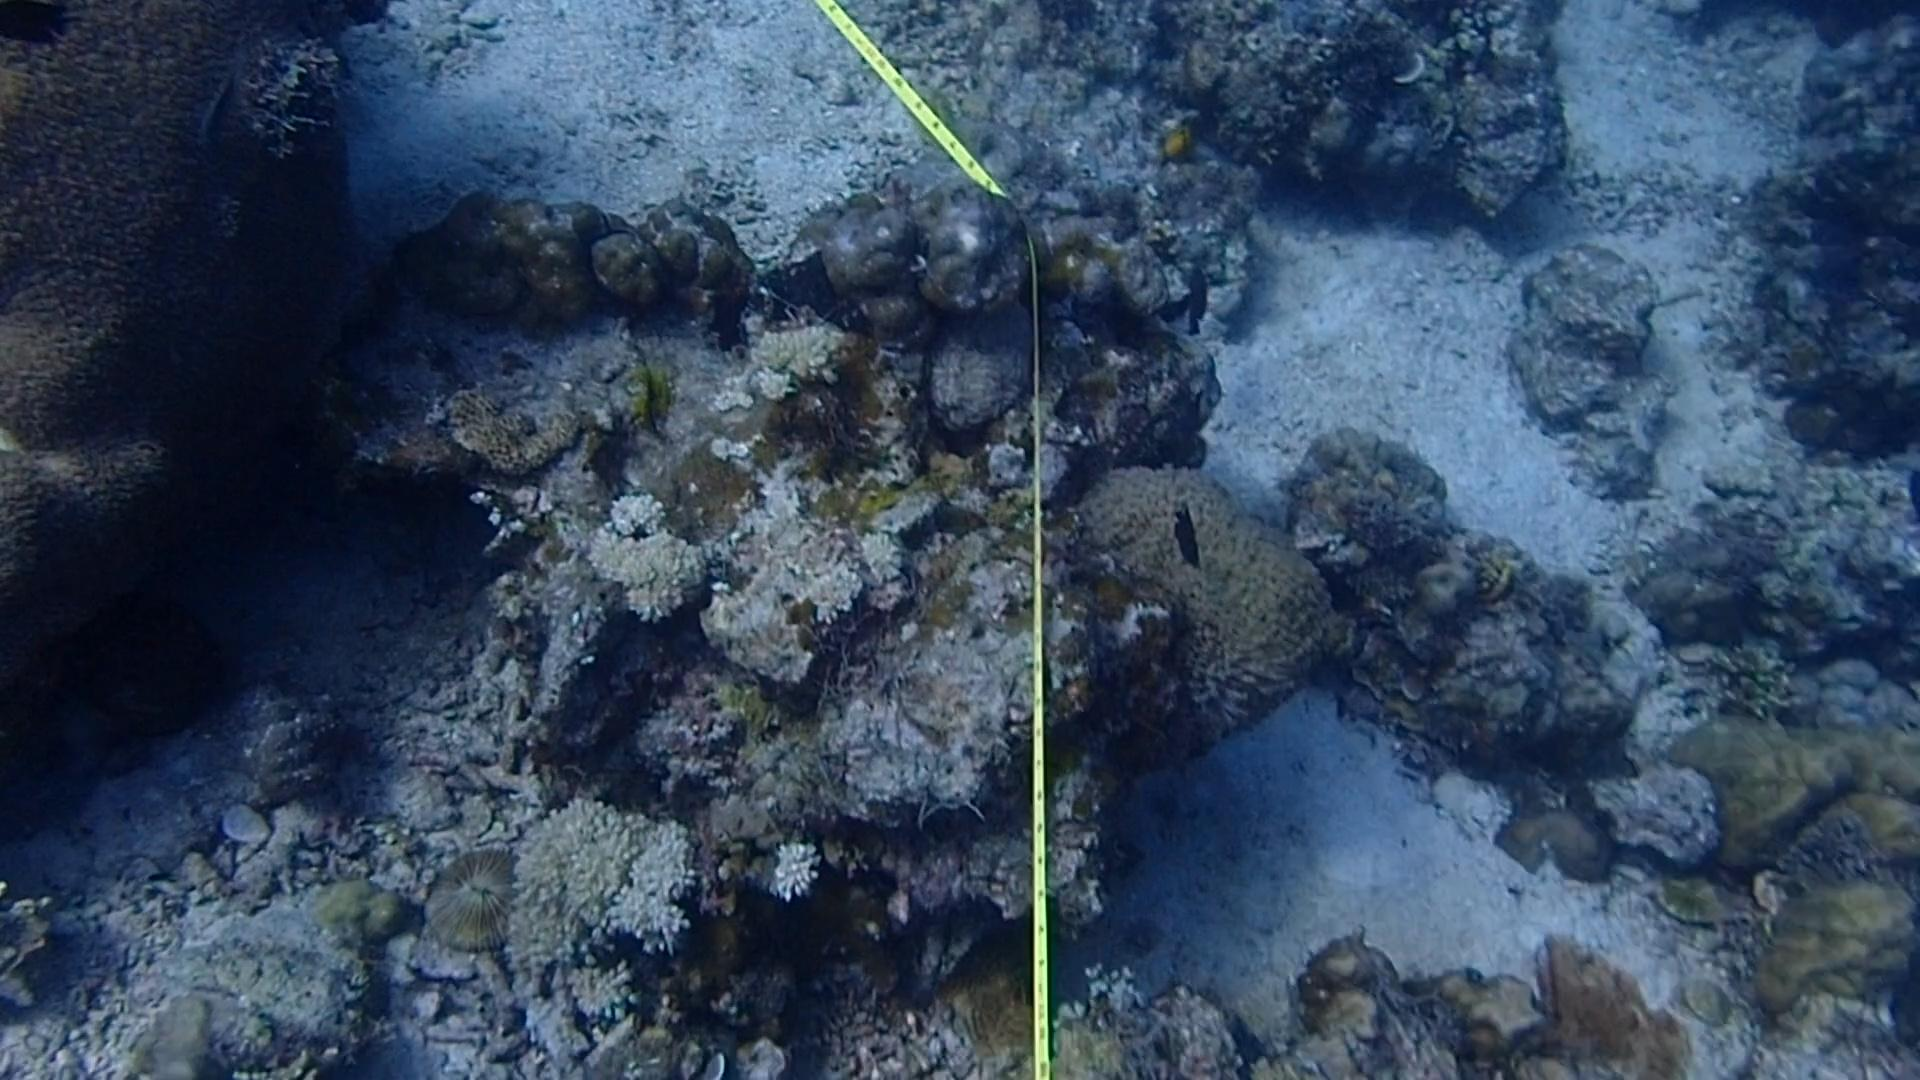Dark Fish: (1305, 549, 1385, 626), (1170, 249, 1218, 342), (1158, 493, 1208, 576), (1153, 265, 1212, 334)
